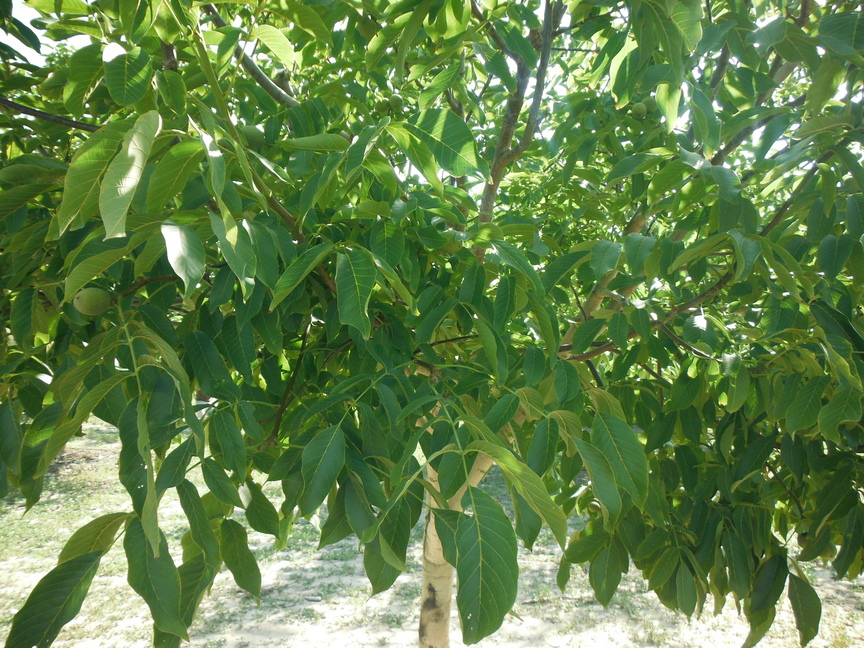walnut: (67, 277, 118, 322), (432, 225, 467, 261), (233, 116, 266, 152), (354, 10, 380, 39), (330, 200, 360, 223), (368, 90, 391, 119), (791, 526, 817, 549), (628, 98, 650, 122), (818, 539, 838, 564), (386, 89, 407, 111), (640, 93, 659, 114), (585, 497, 603, 515), (612, 122, 627, 140)
